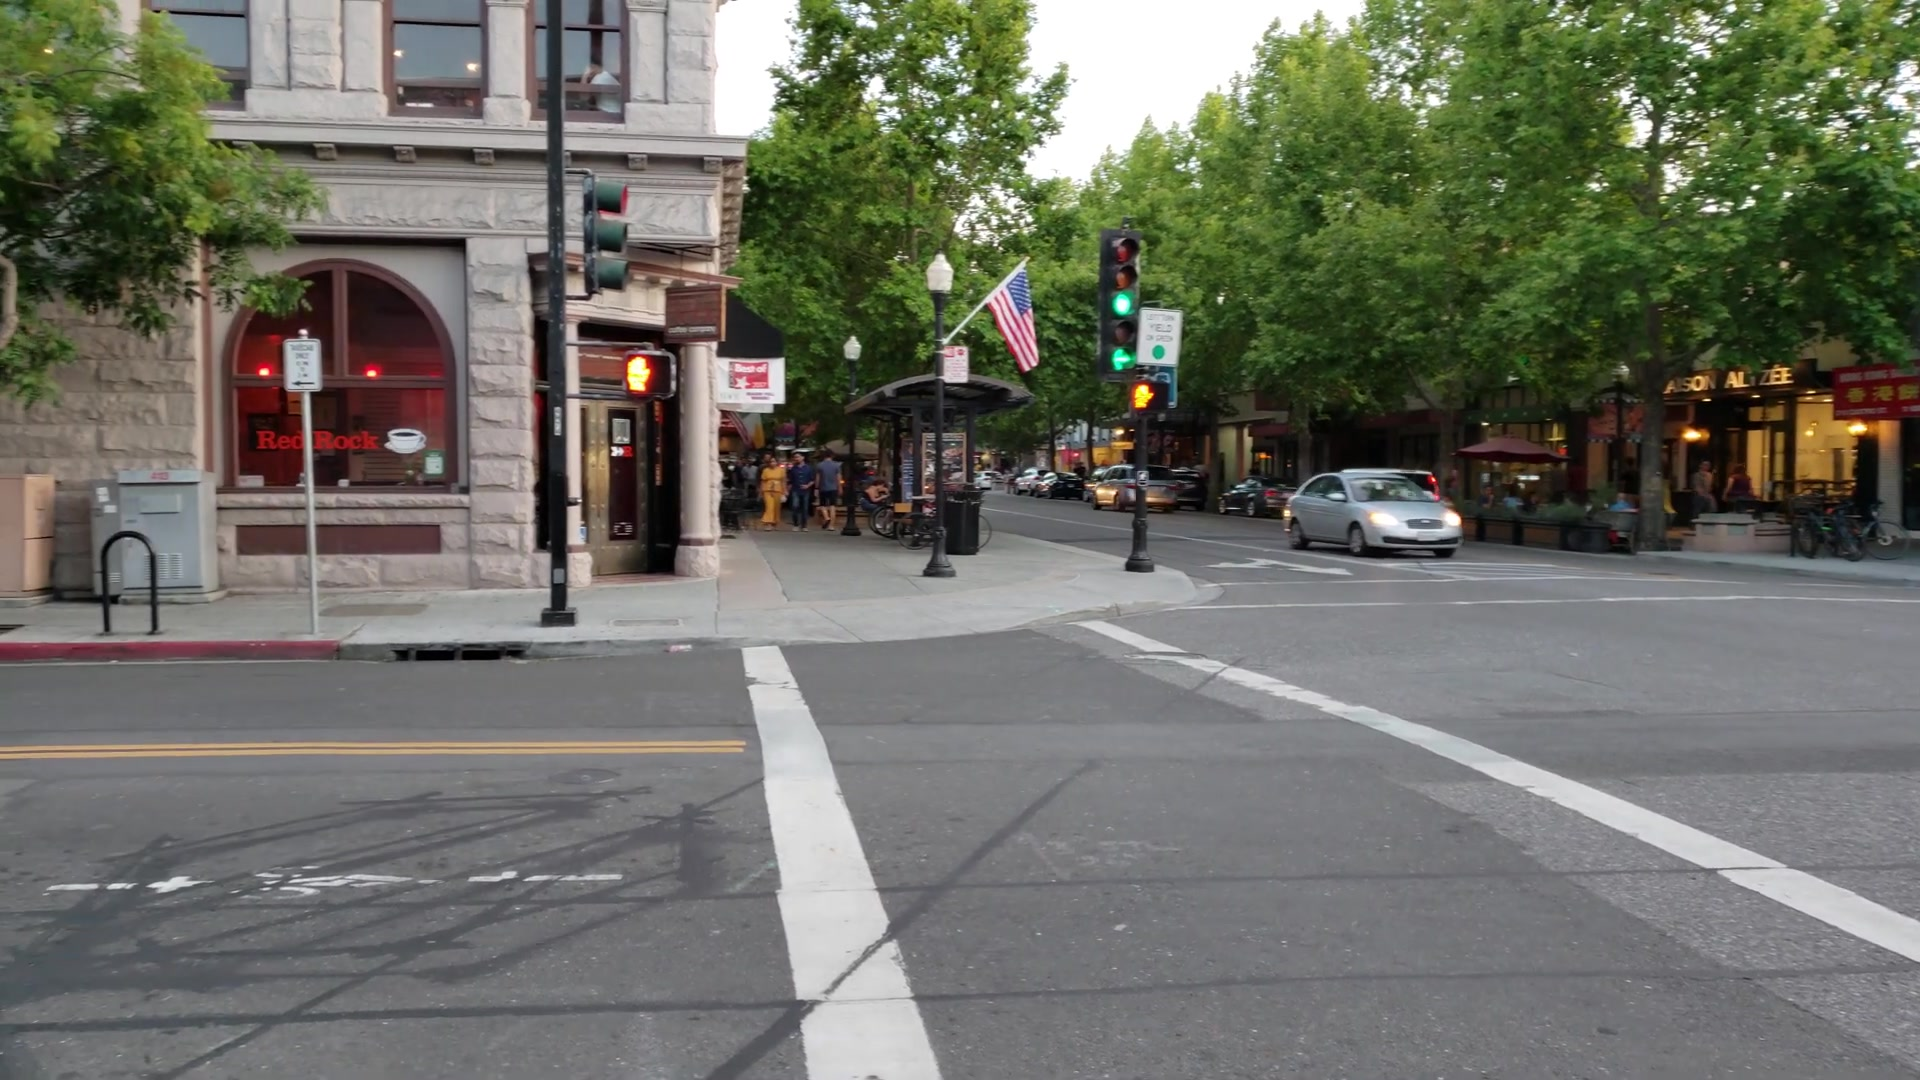vehicle: (1284, 472, 1462, 559)
